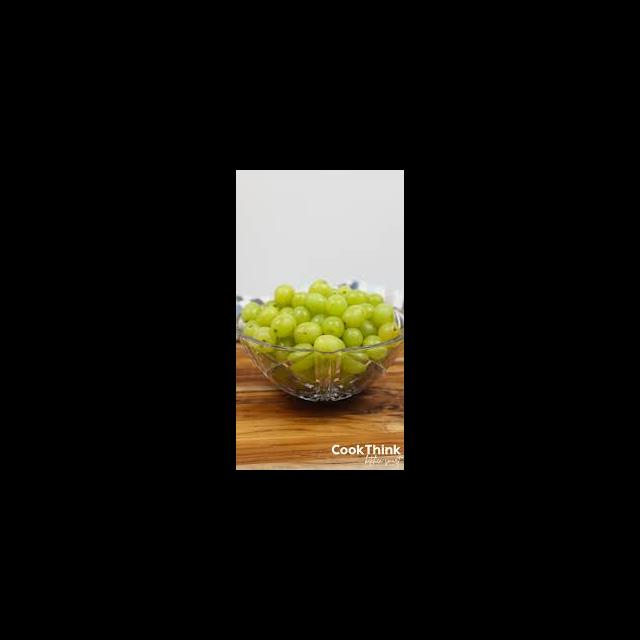grape: (239, 278, 402, 390)
